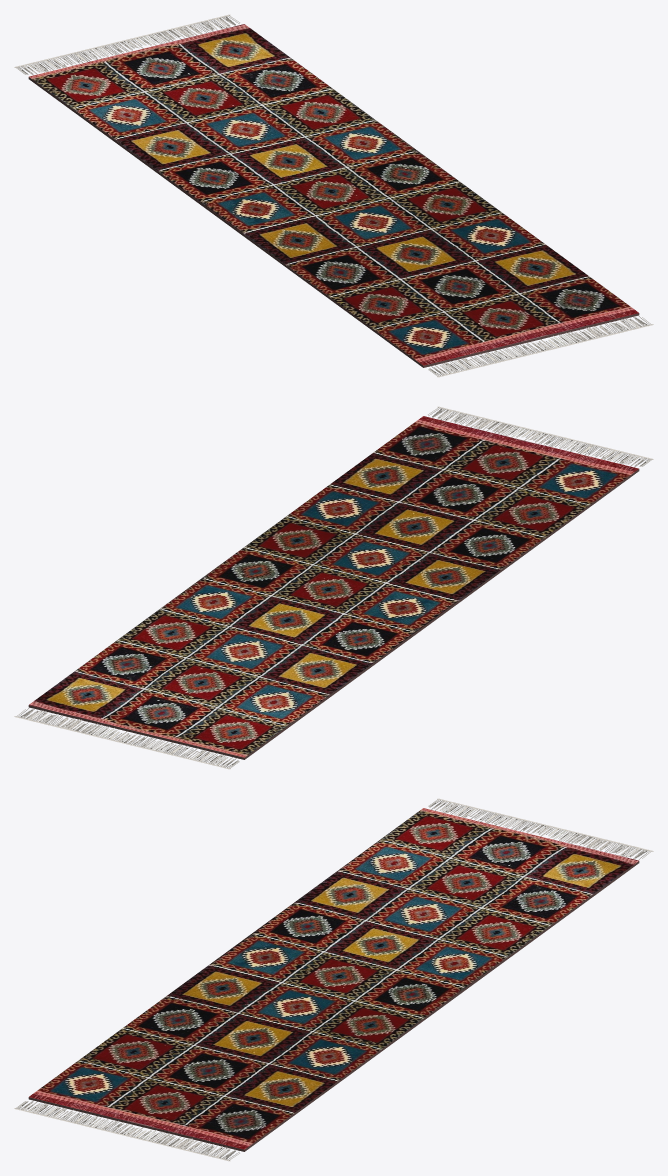
The picture shows the model from 3 angles, top to bottom: view 1: azimuth 30°, elevation 25°; view 2: azimuth 150°, elevation 25°; view 3: azimuth 330°, elevation 25°; orthographic projection.
Visible parts, largest first — view 1: rug, fringeB, fringeA, side; view 2: rug, fringeA, fringeB, side; view 3: rug, fringeB, fringeA, side.
Boxes of the visible parts, bbox=[...] form: rug: bbox=[29, 24, 638, 365]; fringeB: bbox=[428, 316, 653, 377]; fringeA: bbox=[14, 14, 239, 75]; side: bbox=[28, 77, 639, 367]; rug: bbox=[29, 416, 638, 757]; fringeA: bbox=[14, 708, 239, 769]; fringeB: bbox=[428, 406, 653, 467]; side: bbox=[28, 469, 639, 759]; rug: bbox=[29, 808, 638, 1149]; fringeB: bbox=[14, 1100, 239, 1161]; fringeA: bbox=[428, 798, 653, 859]; side: bbox=[28, 861, 639, 1151].
Size of what is drawn, in the model's own units: 0.6 by 0.00614 by 2.04.
2 materials, 2 textured.
